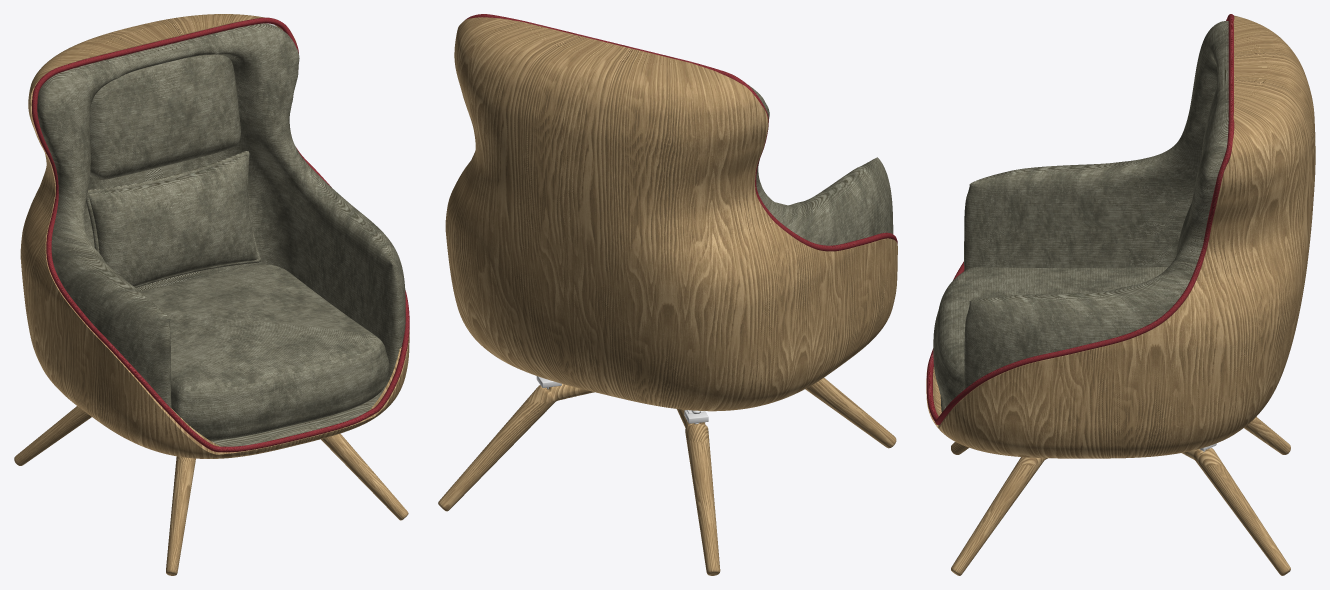
File: fauteuil_sans_draco.glb
The picture shows the model from 3 angles, left to right: view 1: azimuth 30°, elevation 25°; view 2: azimuth 150°, elevation 25°; view 3: azimuth 270°, elevation 25°; orthographic projection. The views are drawn at different scales.
Visible parts, largest first — view 1: Garnissage, Assise, CoqueBois, CoussinLombaire, AppuiTete, Passepoil, Pietement; view 2: CoqueBois, Pietement, Garnissage, Passepoil; view 3: CoqueBois, Garnissage, Assise, Pietement, Passepoil.
Part boxes in pixels (x1,y1,x2,y2): Garnissage: (37,23,405,446); Assise: (141,264,389,440); CoqueBois: (20,14,409,458); CoussinLombaire: (86,151,260,287); AppuiTete: (89,54,240,179); Passepoil: (32,17,409,452); Pietement: (14,406,408,575); CoqueBois: (445,17,897,411); Pietement: (438,378,896,575); Garnissage: (748,85,893,245); Passepoil: (464,14,897,251); CoqueBois: (926,15,1315,458); Garnissage: (940,21,1228,412); Assise: (933,267,1167,406); Pietement: (951,417,1290,575); Passepoil: (926,14,1234,424).
Size of the model in its own units: 0.78 by 1.03 by 0.8149.
Materials: 6 (5 with a texture image).
